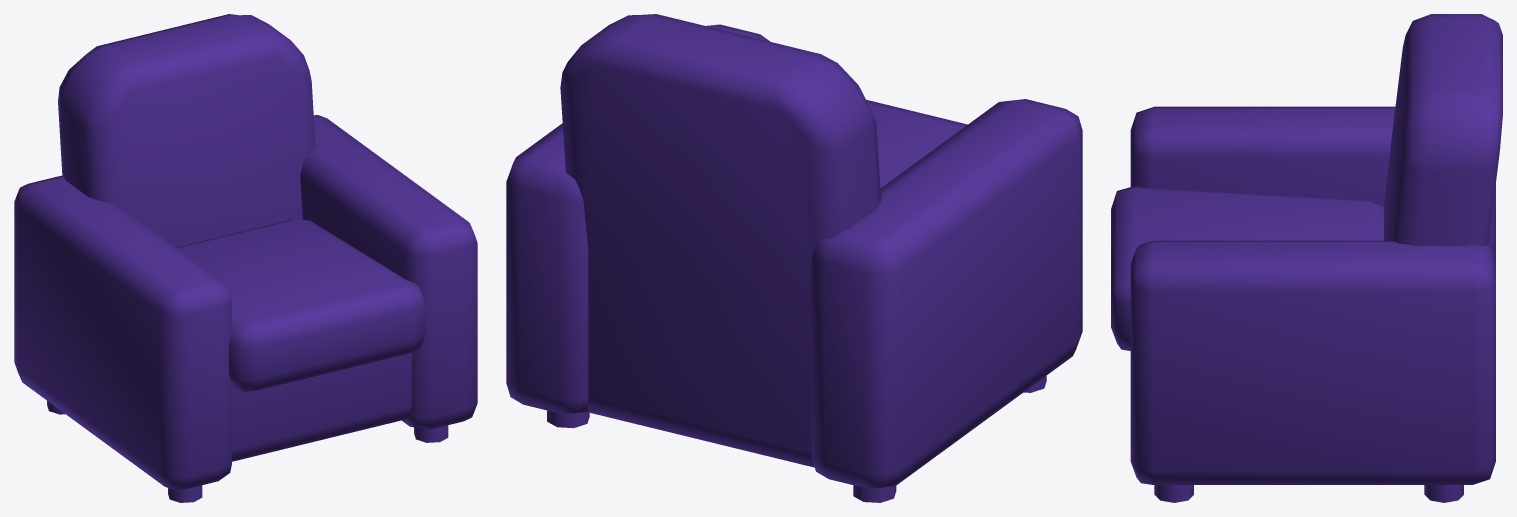
File: sofa1_b.fbx
The picture shows the model from 3 angles, left to right: view 1: azimuth 30°, elevation 25°; view 2: azimuth 150°, elevation 25°; view 3: azimuth 270°, elevation 25°; orthographic projection. The views are drawn at different scales.
Visible parts, largest first — view 1: sofa1_b; view 2: sofa1_b; view 3: sofa1_b.
Part boxes in pixels (x1,y1,x2,y2): sofa1_b: [14, 14, 477, 502]; sofa1_b: [506, 14, 1082, 502]; sofa1_b: [1111, 14, 1502, 502].
Size of the model in its own units: 78.01 by 79.27 by 75.39.
